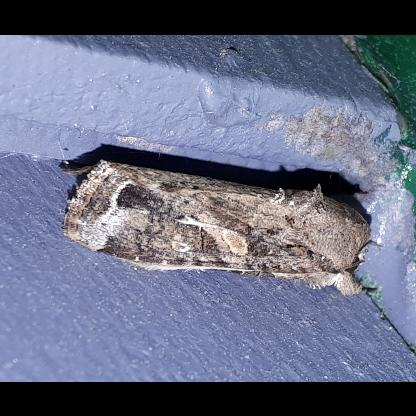Fall Armyworm Moth: (58, 154, 386, 298)
